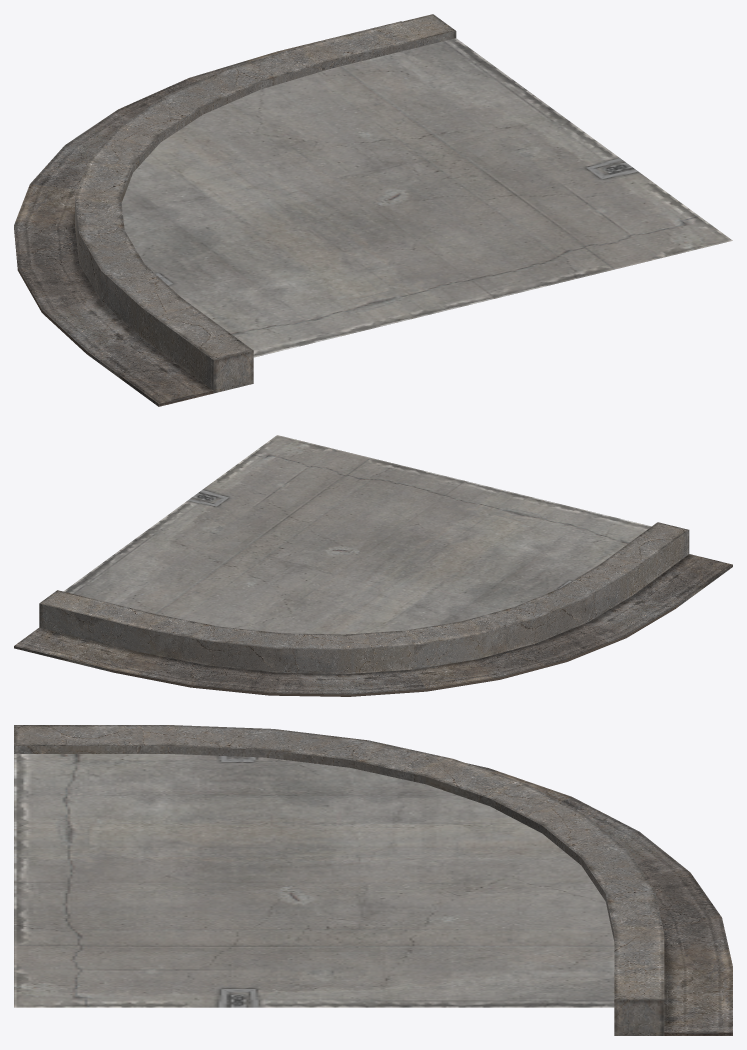
File: CP_Curbstone_Angle_Out_02.fbx
3 renders of one model, top to bottom at view 1: azimuth 30°, elevation 25°; view 2: azimuth 150°, elevation 25°; view 3: azimuth 270°, elevation 25°, orthographic. The views are drawn at different scales.
Visible parts, largest first — view 1: CP_Curbstone_Angle_Out_02_LOD0; view 2: CP_Curbstone_Angle_Out_02_LOD0; view 3: CP_Curbstone_Angle_Out_02_LOD0.
Part boxes in pixels (x1,y1,x2,y2): CP_Curbstone_Angle_Out_02_LOD0: [14, 14, 732, 406]; CP_Curbstone_Angle_Out_02_LOD0: [14, 435, 732, 696]; CP_Curbstone_Angle_Out_02_LOD0: [14, 725, 732, 1035].
Size of what is drawn, in the model's own units: 230 by 12.77 by 230.
